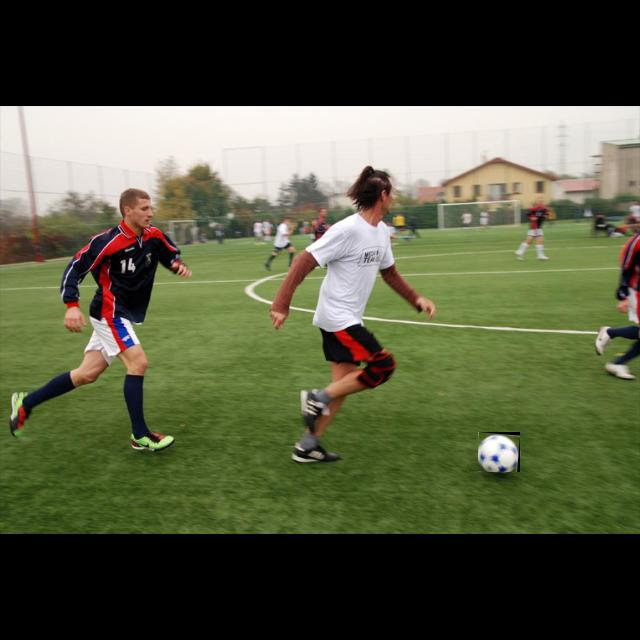Football: (478, 432, 520, 472)
